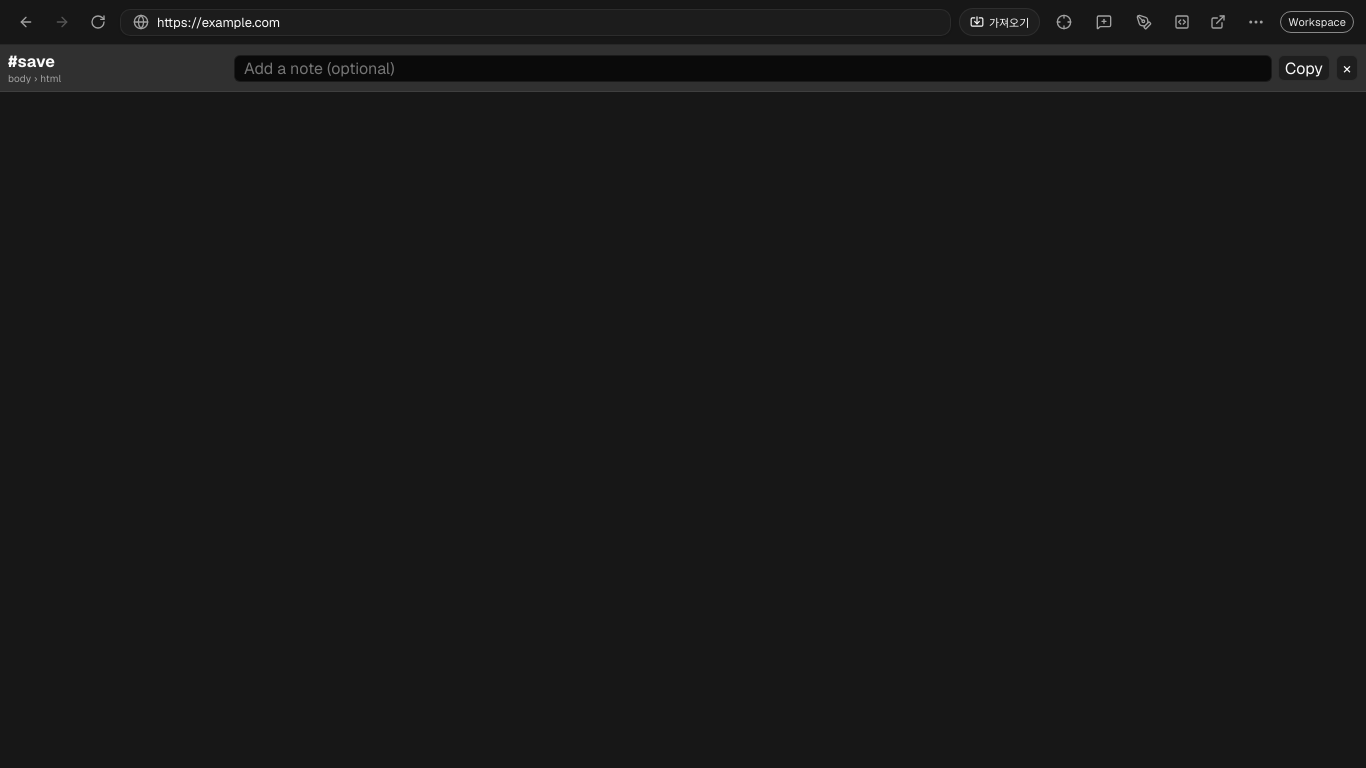
Test: BrowserPanel › copies an annotation to the OS clipboard instead of pushing it at an agent
Click the button "Copy" at (1304, 68), box [1278,55,1330,81]
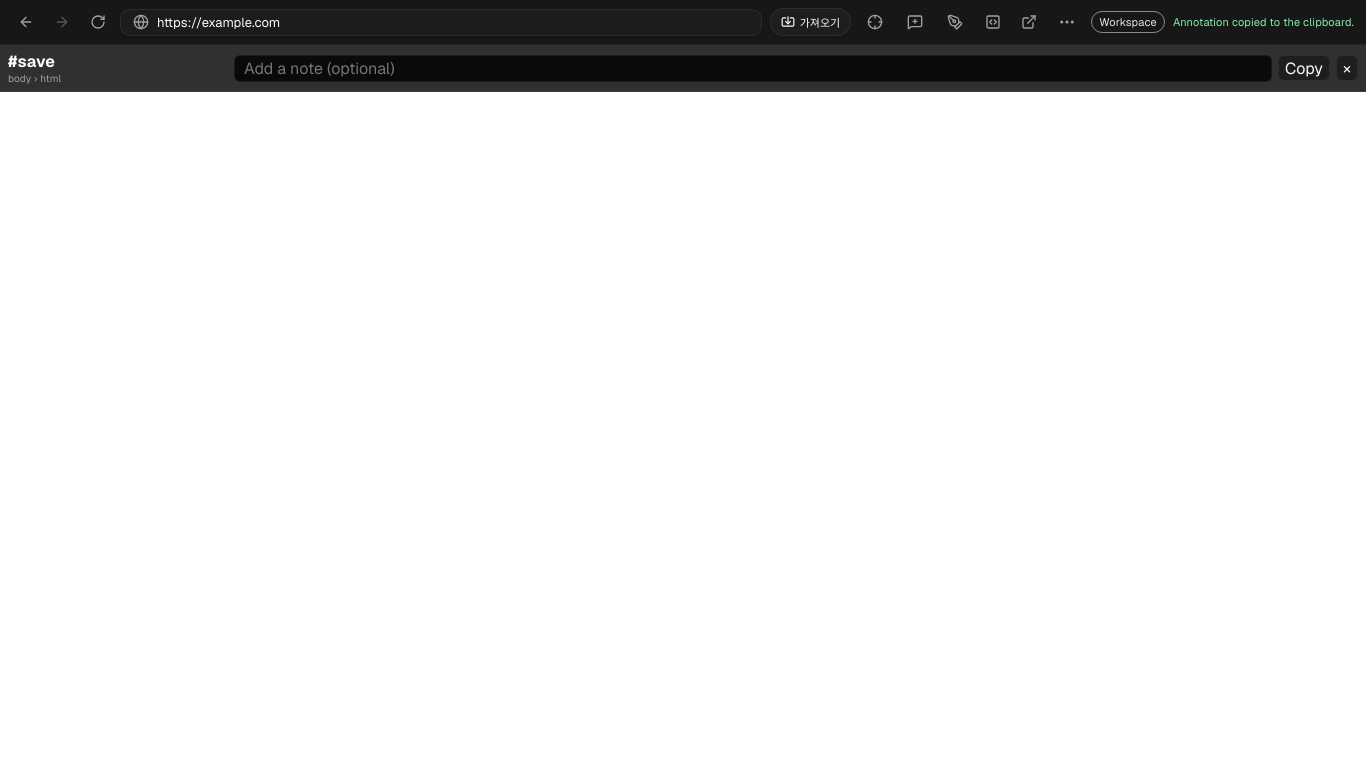
Check: the text "Annotation copied to the clipboard." is shown, box [1173,15,1354,29]
